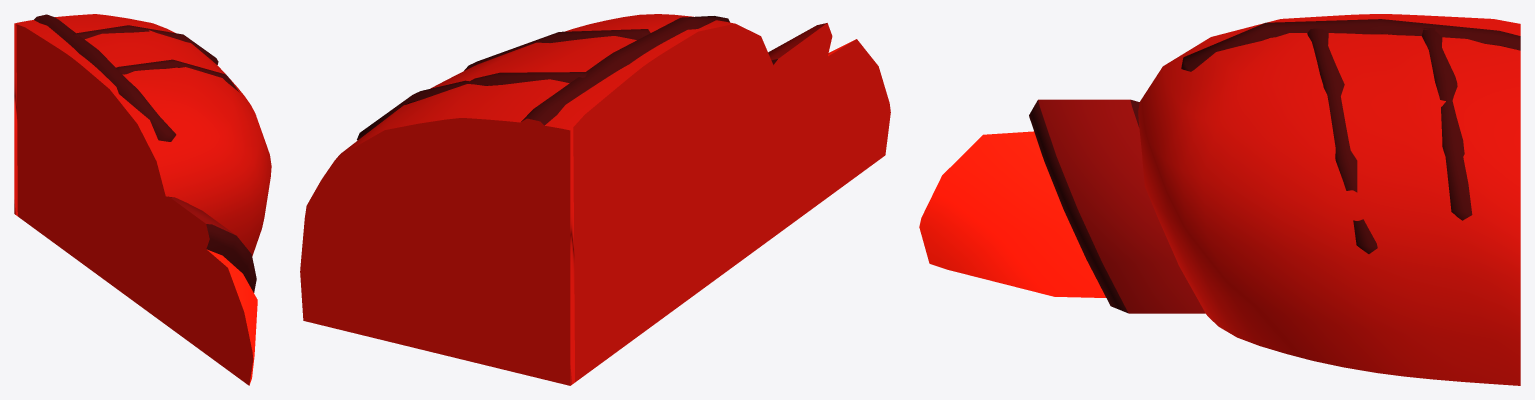
File: shot_punch_b162.glb
The picture shows the model from 3 angles, left to right: view 1: azimuth 30°, elevation 25°; view 2: azimuth 150°, elevation 25°; view 3: azimuth 270°, elevation 25°; orthographic projection. The views are drawn at different scales.
Visible parts, largest first — view 1: pu_mitt_b161.001, pu_cuff_b161.001, pu_fire_b161.001, pu_crease_b161.001, pu_finger.001_b161.001, pu_finger.002_b161.001, pu_fire_core_b161.001; view 2: pu_mitt_b161.001, pu_cuff_b161.001, pu_fire_b161.001, pu_crease_b161.001, pu_finger.001_b161.001, pu_finger.002_b161.001; view 3: pu_mitt_b161.001, pu_cuff_b161.001, pu_fire_b161.001, pu_crease_b161.001, pu_finger.001_b161.001, pu_finger.002_b161.001.
Boxes of the visible parts, bbox=[...] form: pu_mitt_b161.001: bbox=[14, 14, 271, 307]; pu_cuff_b161.001: bbox=[133, 196, 256, 330]; pu_fire_b161.001: bbox=[175, 248, 257, 385]; pu_crease_b161.001: bbox=[34, 14, 176, 141]; pu_finger.001_b161.001: bbox=[73, 25, 218, 64]; pu_finger.002_b161.001: bbox=[116, 59, 239, 92]; pu_fire_core_b161.001: bbox=[174, 304, 194, 345]; pu_mitt_b161.001: bbox=[300, 14, 774, 385]; pu_cuff_b161.001: bbox=[716, 23, 832, 278]; pu_fire_b161.001: bbox=[787, 39, 890, 225]; pu_crease_b161.001: bbox=[520, 16, 729, 132]; pu_finger.001_b161.001: bbox=[357, 72, 587, 140]; pu_finger.002_b161.001: bbox=[464, 29, 650, 70]; pu_mitt_b161.001: bbox=[1138, 14, 1520, 385]; pu_cuff_b161.001: bbox=[1029, 99, 1205, 313]; pu_fire_b161.001: bbox=[919, 131, 1105, 297]; pu_crease_b161.001: bbox=[1181, 19, 1520, 71]; pu_finger.001_b161.001: bbox=[1422, 28, 1472, 220]; pu_finger.002_b161.001: bbox=[1307, 28, 1377, 253].
Size of the model in its own units: 5.71 by 5.46 by 11.73.
